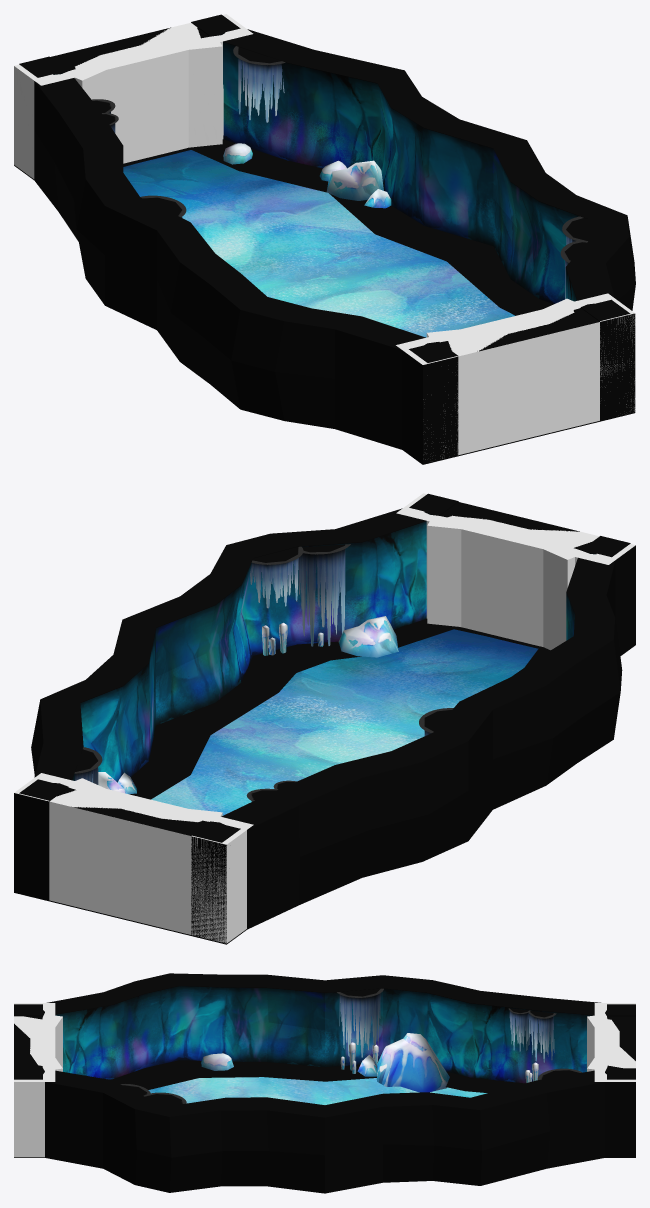
File: Dungeon_072_Road_002.fbx
3 renders of one model, top to bottom at view 1: azimuth 30°, elevation 25°; view 2: azimuth 150°, elevation 25°; view 3: azimuth 270°, elevation 25°, orthographic. The views are drawn at different scales.
Visible parts, largest first — view 1: Dun_072_Road_002_wall, Dun_072_Road_002_ground, DoorWay_NavMask (3) (×2), Dan_072_Road_002_shadow, DoorWay_NavMask (1), Dun_072_Door_002 (×2), DoorWay_NavMask (2) (×2), Dun_072_OB_Icicle, DoorWay_NavMask (4) (×2), Dun_072_OB_Stone02, Dun_072_OB_Stone01; view 2: Dun_072_Road_002_wall, DoorWay_NavMask (3) (×2), Dun_072_Road_002_ground, Dan_072_Road_002_shadow, DoorWay_NavMask (1) (×2), Dun_072_OB_Icicle, Dun_072_Door_002 (×2), DoorWay_NavMask (4) (×2), DoorWay_NavMask (2) (×2), Dun_072_OB_Stone02, Dun_072_OB_Ice_crystals01; view 3: Dun_072_Road_002_wall, DoorWay_NavMask (3) (×2), Dun_072_Road_002_ground, Dan_072_Road_002_shadow, Dun_072_OB_Icicle, Dun_072_OB_Stone02, Dun_072_Door_002 (×2), DoorWay_NavMask (1) (×2), DoorWay_NavMask (2) (×2), Dun_072_OB_Stone01, DoorWay_NavMask (4), Dun_072_OB_Ice_crystals01.
Boxes of the visible parts, box(x1,y1,x2,y2) form: Dun_072_Road_002_wall: box(14, 29, 635, 464); Dun_072_Road_002_ground: box(123, 150, 515, 337); DoorWay_NavMask (3) (×2): box(14, 14, 635, 459); Dan_072_Road_002_shadow: box(188, 139, 553, 315); DoorWay_NavMask (1): box(449, 306, 589, 455); Dun_072_Door_002 (×2): box(19, 14, 630, 456); DoorWay_NavMask (2) (×2): box(163, 36, 485, 342); Dun_072_OB_Icicle: box(92, 46, 588, 299); DoorWay_NavMask (4) (×2): box(64, 56, 583, 322); Dun_072_OB_Stone02: box(326, 160, 383, 200); Dun_072_OB_Stone01: box(223, 143, 391, 208); Dun_072_Road_002_wall: box(14, 508, 635, 944); DoorWay_NavMask (3) (×2): box(14, 493, 635, 943); Dun_072_Road_002_ground: box(151, 629, 538, 815); Dan_072_Road_002_shadow: box(129, 618, 550, 799); DoorWay_NavMask (1) (×2): box(48, 516, 597, 931); Dun_072_OB_Icicle: box(74, 544, 453, 801); Dun_072_Door_002 (×2): box(19, 493, 630, 935); DoorWay_NavMask (4) (×2): box(163, 515, 486, 821); DoorWay_NavMask (2) (×2): box(65, 535, 585, 802); Dun_072_OB_Stone02: box(98, 616, 398, 793); Dun_072_OB_Ice_crystals01: box(262, 622, 323, 655); Dun_072_Road_002_wall: box(14, 973, 635, 1193); DoorWay_NavMask (3) (×2): box(14, 1003, 635, 1157); Dun_072_Road_002_ground: box(148, 1077, 487, 1104); Dan_072_Road_002_shadow: box(110, 1060, 524, 1092); Dun_072_OB_Icicle: box(120, 988, 581, 1104); Dun_072_OB_Stone02: box(376, 1033, 449, 1092); Dun_072_Door_002 (×2): box(14, 1004, 635, 1079); DoorWay_NavMask (1) (×2): box(14, 1016, 635, 1069); DoorWay_NavMask (2) (×2): box(36, 1014, 617, 1071); Dun_072_OB_Stone01: box(201, 1053, 377, 1076); DoorWay_NavMask (4): box(587, 1014, 613, 1067); Dun_072_OB_Ice_crystals01: box(340, 1042, 538, 1082).
Size of what is drawn, in the model's own units: 8.54 by 2.1 by 15.
